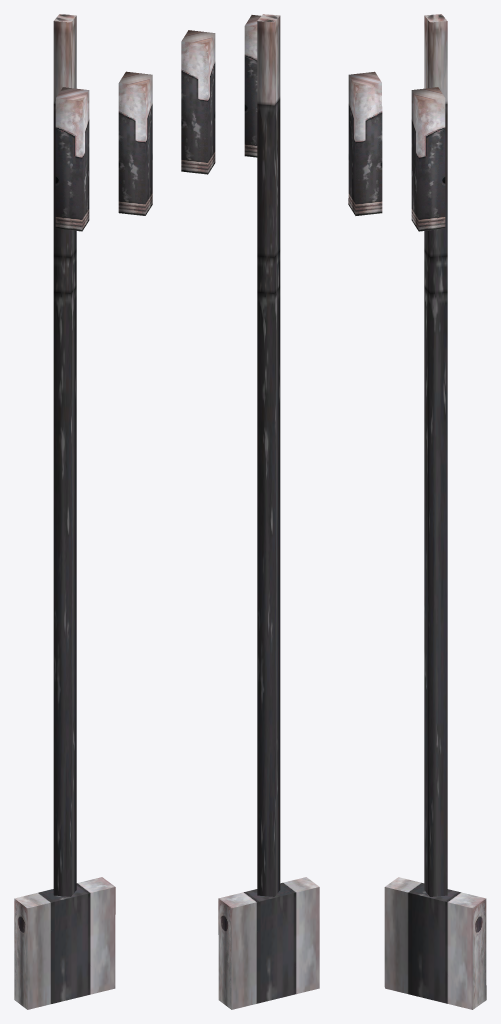
File: mun_all_imprv_streetlamp_lg_s01_l3.fbx
The picture shows the model from 3 angles, left to right: view 1: azimuth 30°, elevation 25°; view 2: azimuth 210°, elevation 25°; view 3: azimuth 330°, elevation 25°; orthographic projection.
Parts seen in each view (by area): view 1: mesh_node; view 2: mesh_node; view 3: mesh_node.
Boxes of the visible parts, <box> form: mesh_node: <box>14,14,152,1009</box>; mesh_node: <box>181,14,319,1009</box>; mesh_node: <box>348,14,486,1009</box>.
Bounding box in the file's own units: 0.418 × 4.02 × 0.414.
Materials: 1 (1 with a texture image).
